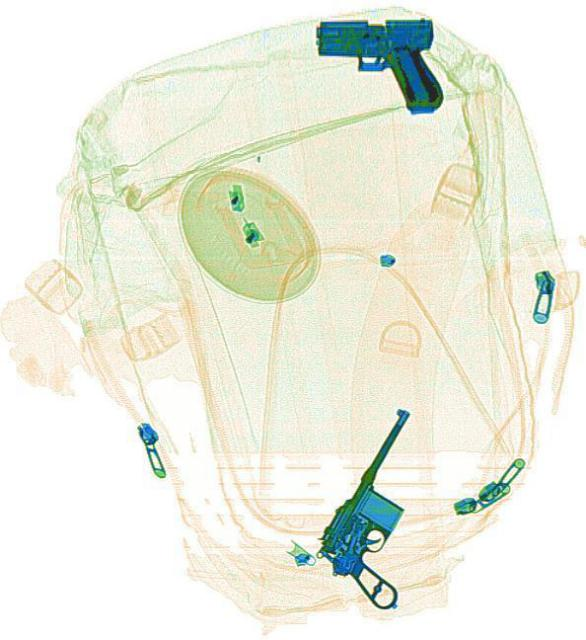Gun: (300, 403, 481, 613), (311, 17, 440, 114)
